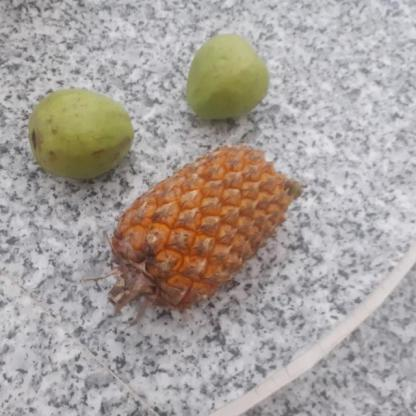guava: (29, 90, 139, 178), (184, 36, 272, 122)
pineapple: (104, 144, 306, 313)
